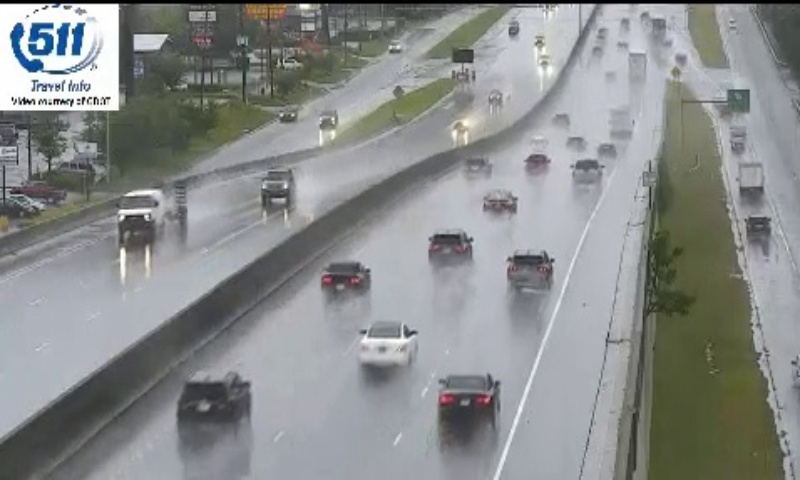car: (177, 369, 252, 428), (438, 375, 498, 422), (359, 321, 416, 367), (319, 260, 371, 299), (507, 247, 553, 285), (428, 232, 471, 266), (483, 190, 515, 217), (574, 158, 602, 186)
